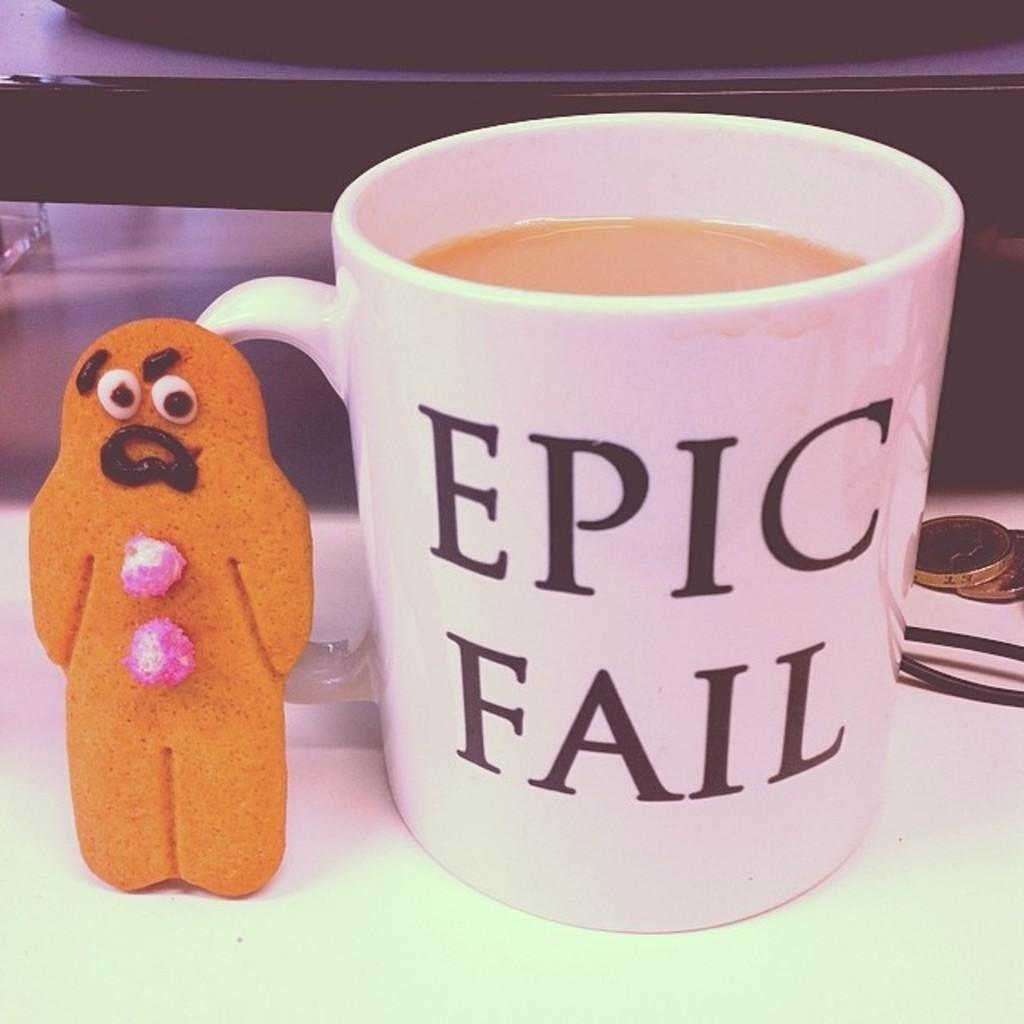cup-handle: (195, 107, 962, 932)
